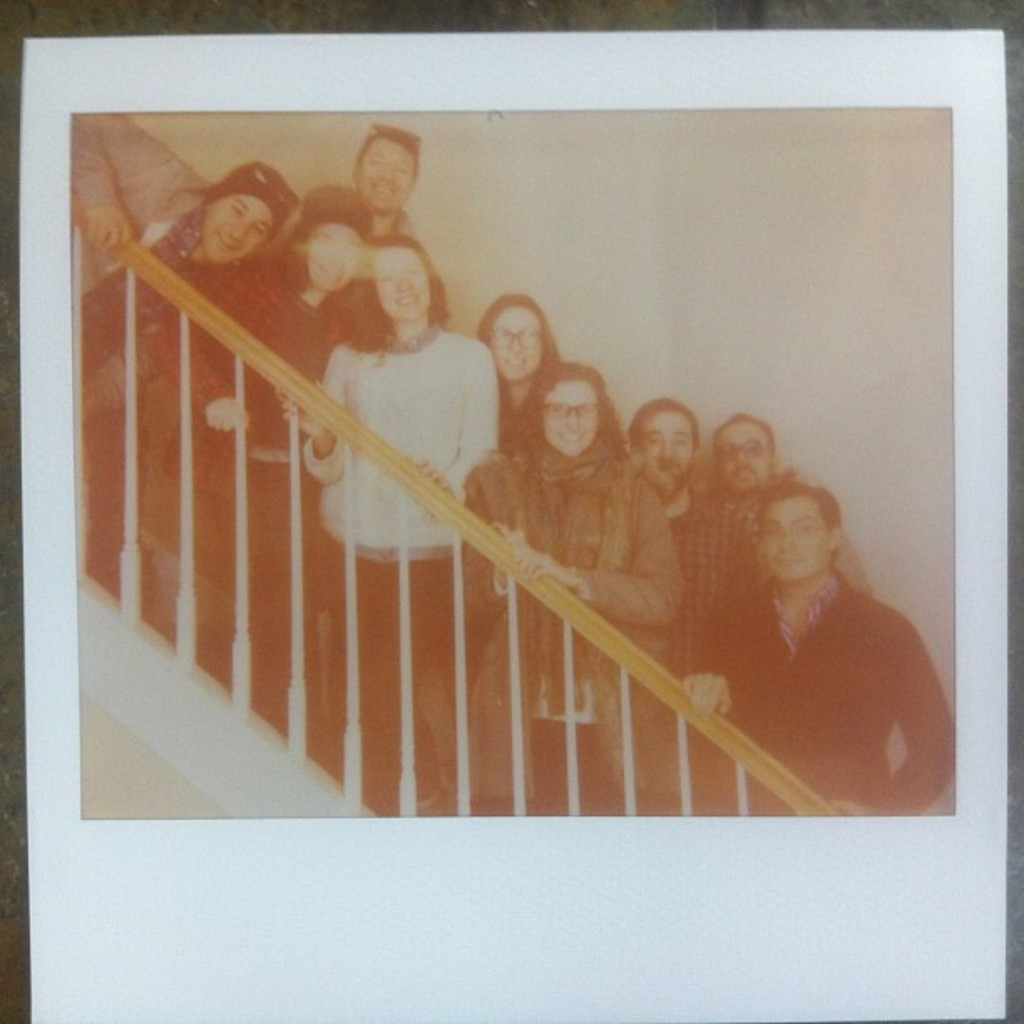person: (625, 392, 746, 682)
